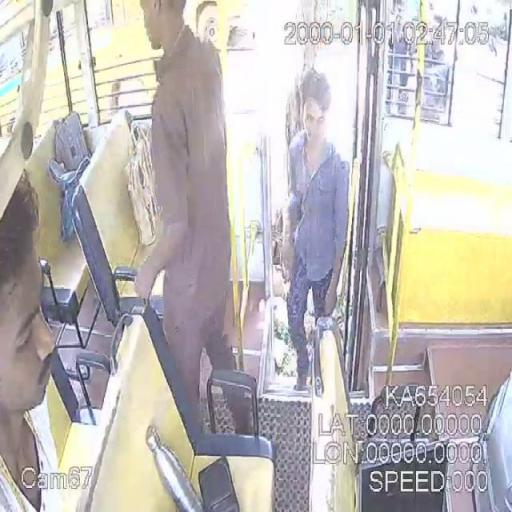persona: (131, 0, 238, 450), (284, 68, 352, 394), (0, 168, 60, 511)
